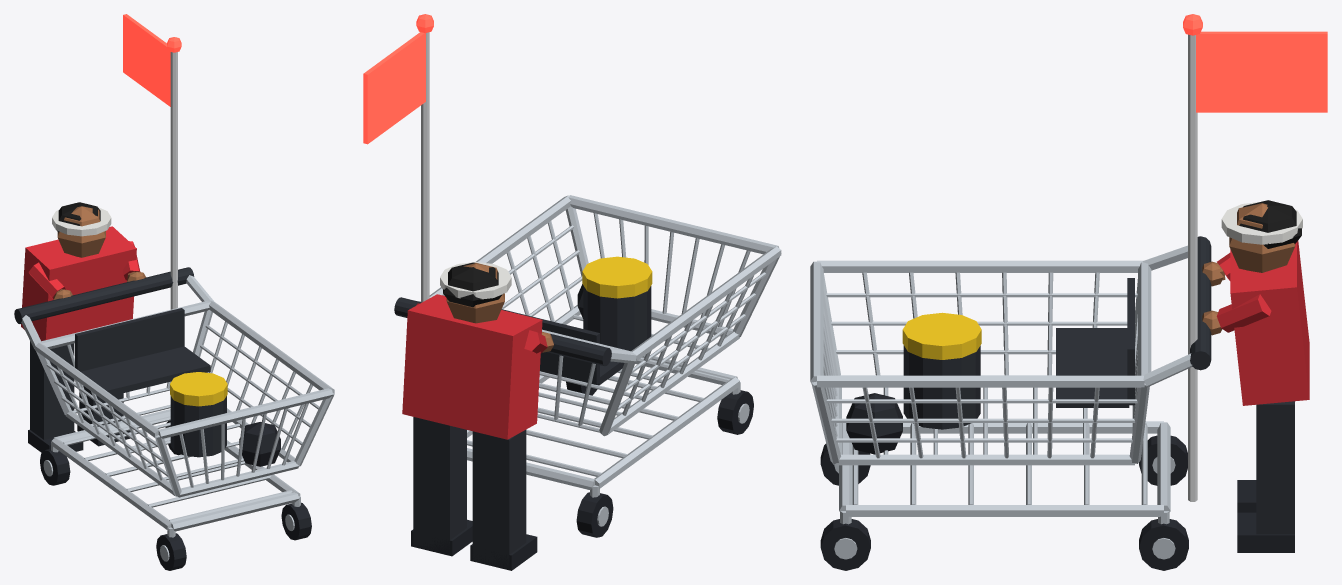
File: cart-rival-brick.glb
The picture shows the model from 3 angles, left to right: view 1: azimuth 30°, elevation 25°; view 2: azimuth 150°, elevation 25°; view 3: azimuth 270°, elevation 25°; orthographic projection. The views are drawn at different scales.
Visible parts, largest first — view 1: cart-rival-brick; view 2: cart-rival-brick; view 3: cart-rival-brick.
Part boxes in pixels (<box>): cart-rival-brick: <box>14,14,334,570</box>; cart-rival-brick: <box>363,14,781,570</box>; cart-rival-brick: <box>810,14,1327,570</box>.
Size of the model in its own units: 1.47 by 3.18 by 2.68.
